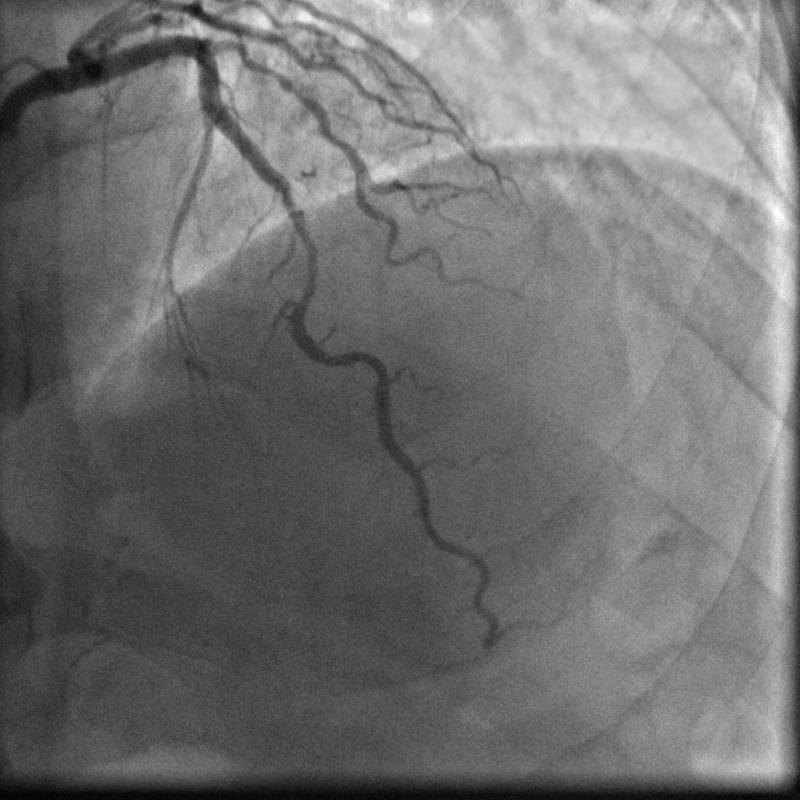Stenosis: (283, 202, 320, 291)
